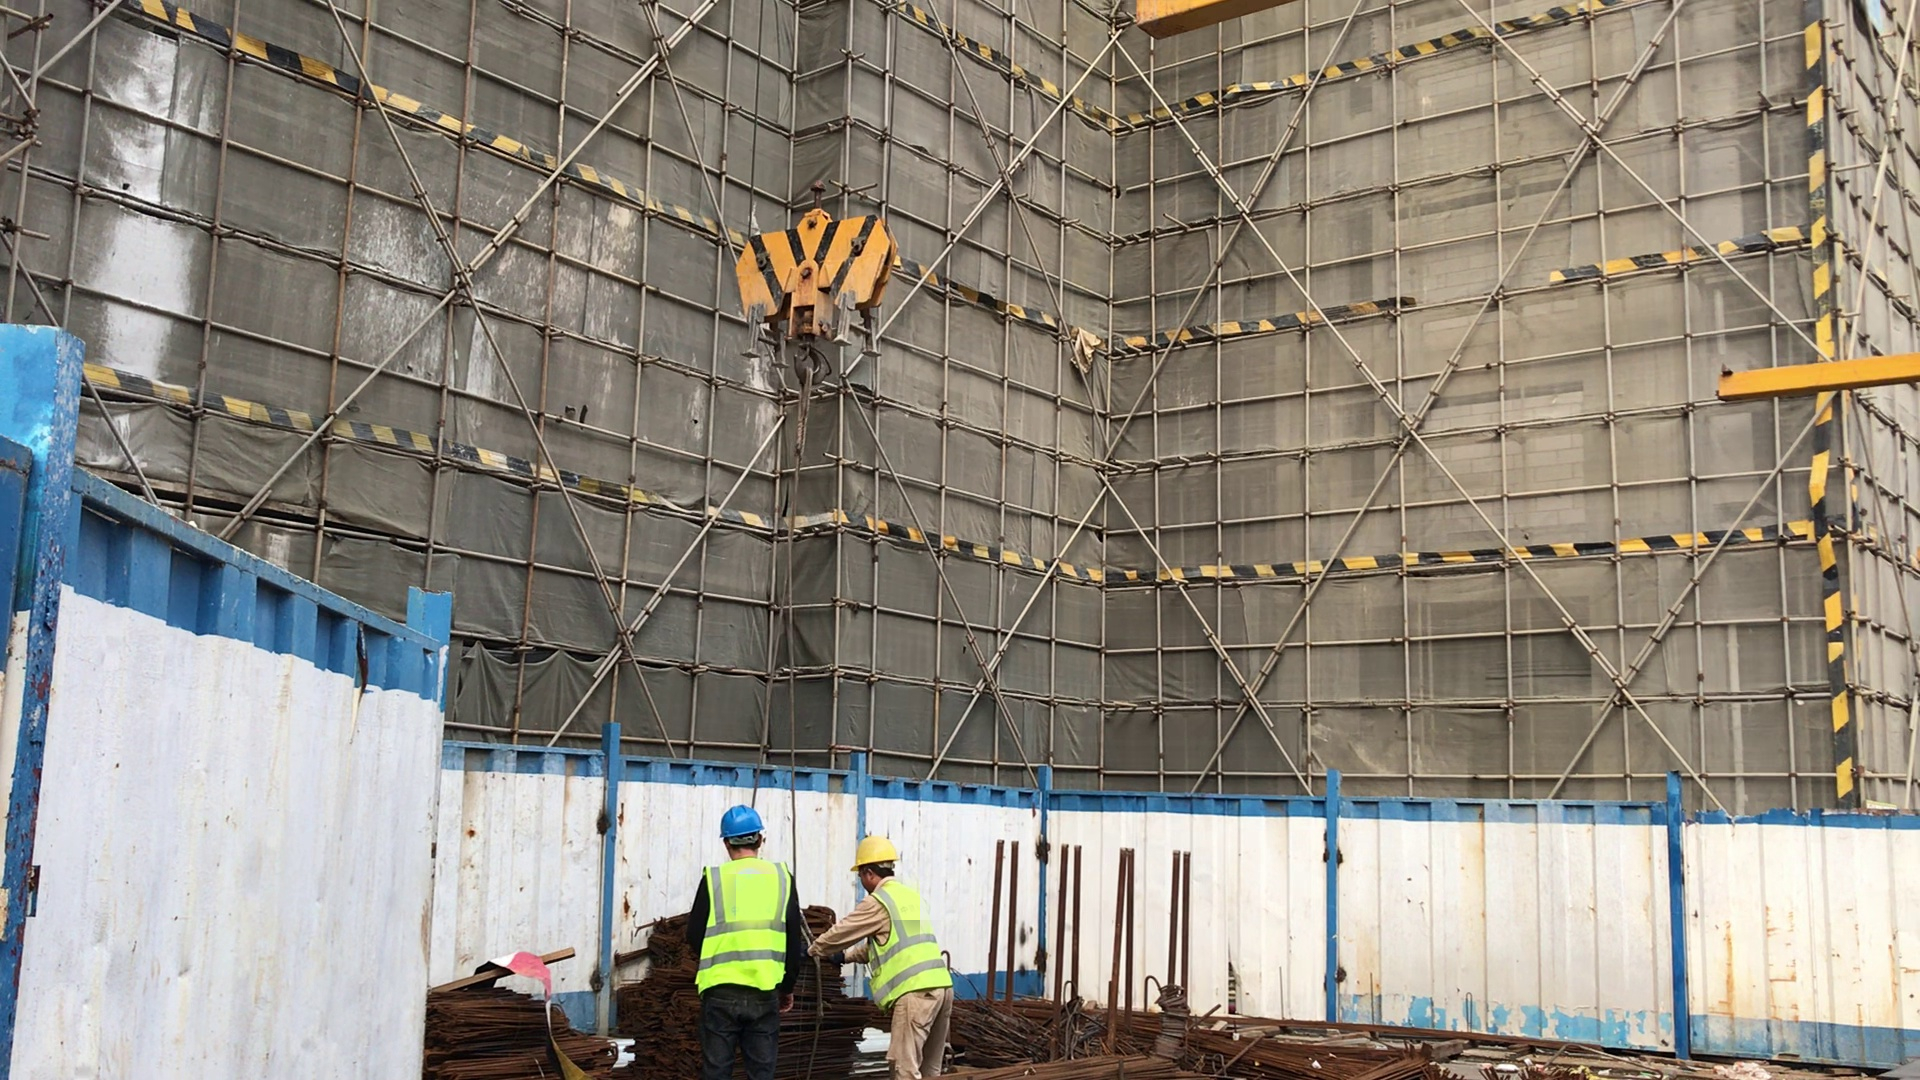helmet: (718, 806, 763, 840), (851, 839, 898, 867)
hook: (733, 203, 901, 391)
person: (824, 838, 960, 1080), (694, 805, 798, 1080)
rebar: (978, 1057, 1179, 1080)
vest: (697, 864, 790, 997), (861, 887, 952, 1003)
